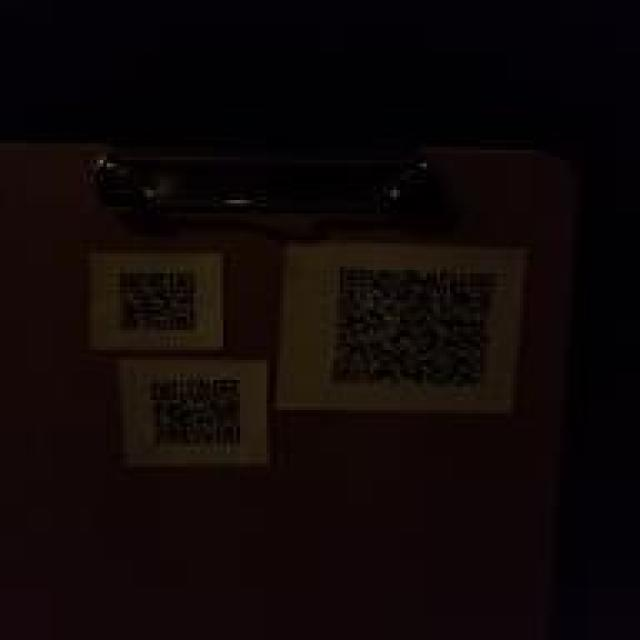QR_CODE: (320, 250, 507, 395), (140, 370, 257, 457), (106, 260, 206, 342)
